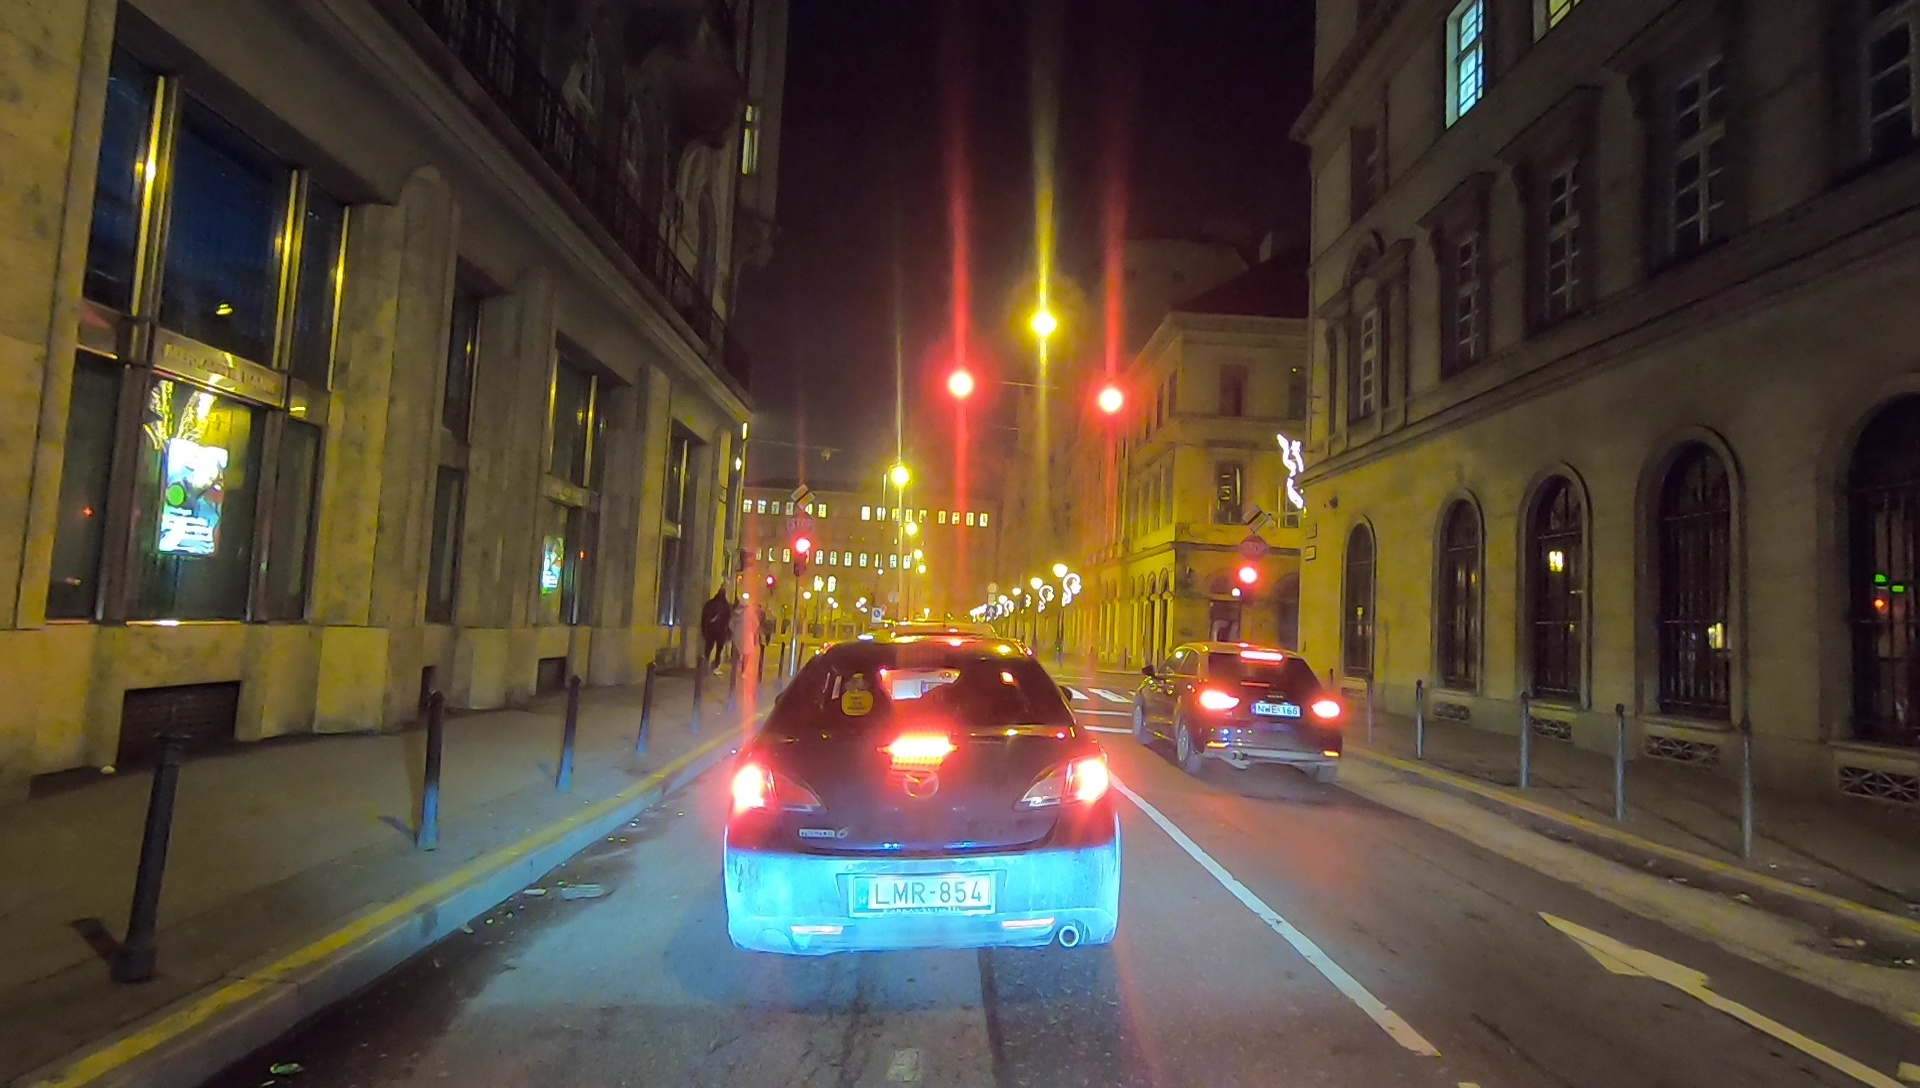person: (730, 589, 764, 682), (701, 586, 726, 674)
